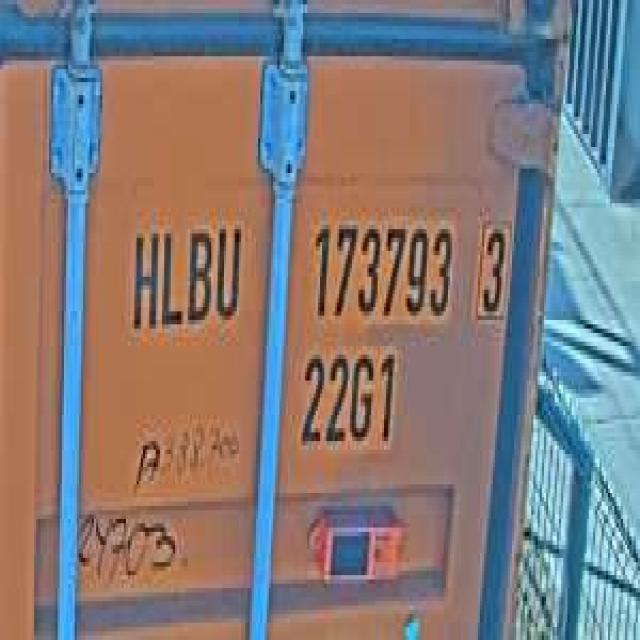dv: (469, 208, 514, 328)
owner: (126, 208, 245, 333)
serial: (305, 208, 457, 328)
size: (294, 338, 399, 458)
